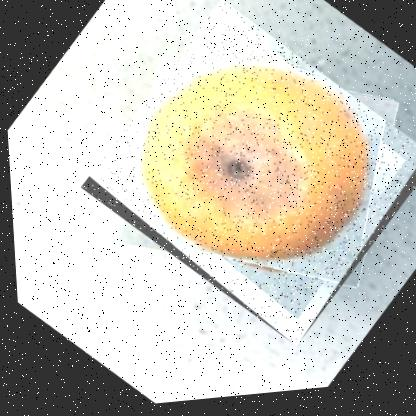orange_rotten: (68, 0, 415, 368)
